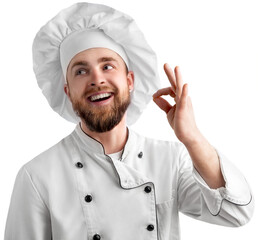young: (52, 23, 146, 138)
